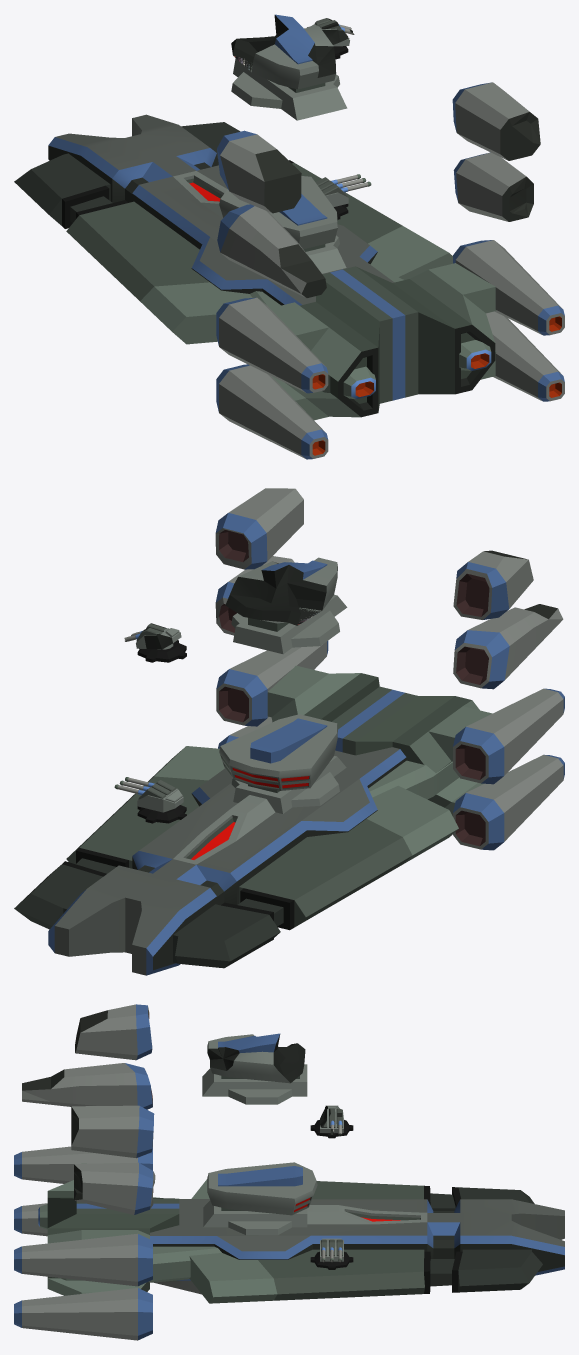
Rendered from Corvettev3.fbx.
3 views of the same model, one above another, from view 1: azimuth 30°, elevation 25°; view 2: azimuth 150°, elevation 25°; view 3: azimuth 270°, elevation 25° (orthographic). The views are drawn at different scales.
Parts seen in each view (by area): view 1: Corvette Core Chassis, Corvette Broadside Chassis, Corvette Core Chassis.003, Corvette Engine.TL, Corvette Engine.BL, Corvette Engine.BL_Broken, Corvette Engine.TR, Corvette Engine.TL_Broken, Corvette Engine.TR_Broken, Corvette Engine.BR_Broken, Corvette Core Chassis.001, Corvette Engine.BR (+2 smaller); view 2: Corvette Core Chassis, Corvette Broadside Chassis, Corvette Core Chassis.001, Corvette Core Chassis.003, Corvette Engine.TL, Corvette Engine.BL, Corvette Engine.BL_Broken, Corvette Engine.TR_Broken, Corvette Engine.TR, Corvette Engine.TL_Broken, Corvette AUX Engines, Turret Body (+4 smaller); view 3: Corvette Core Chassis, Corvette Broadside Chassis, Corvette Core Chassis.001, Corvette Core Chassis.003, Corvette Engine.TR, Corvette Engine.BR, Corvette Engine.BL_Broken, Corvette Engine.TR_Broken, Corvette Engine.BR_Broken, Corvette Engine.TL_Broken, Corvette Engine.TL, Corvette AUX Engines (+3 smaller).
Boxes of the visible parts, bbox=[...] form: Corvette Core Chassis: bbox=[48, 114, 496, 420]; Corvette Broadside Chassis: bbox=[14, 122, 452, 344]; Corvette Core Chassis.003: bbox=[231, 14, 347, 120]; Corvette Engine.TL: bbox=[216, 297, 328, 393]; Corvette Engine.BL: bbox=[216, 364, 328, 459]; Corvette Engine.BL_Broken: bbox=[217, 204, 326, 298]; Corvette Engine.TR: bbox=[453, 240, 564, 335]; Corvette Engine.TL_Broken: bbox=[217, 130, 301, 213]; Corvette Engine.TR_Broken: bbox=[452, 82, 540, 160]; Corvette Engine.BR_Broken: bbox=[453, 152, 533, 221]; Corvette Core Chassis.001: bbox=[219, 176, 346, 273]; Corvette Engine.BR: bbox=[486, 311, 564, 401]; Corvette Core Chassis: bbox=[48, 665, 492, 975]; Corvette Broadside Chassis: bbox=[14, 746, 458, 968]; Corvette Core Chassis.001: bbox=[219, 714, 346, 813]; Corvette Core Chassis.003: bbox=[225, 557, 347, 654]; Corvette Engine.TL: bbox=[453, 688, 564, 784]; Corvette Engine.BL: bbox=[453, 754, 564, 850]; Corvette Engine.BL_Broken: bbox=[453, 604, 563, 689]; Corvette Engine.TR_Broken: bbox=[215, 488, 303, 569]; Corvette Engine.TR: bbox=[216, 641, 328, 726]; Corvette Engine.TL_Broken: bbox=[453, 550, 533, 619]; Corvette AUX Engines: bbox=[368, 760, 459, 799]; Turret Body: bbox=[137, 780, 183, 812]; Corvette Core Chassis: bbox=[47, 1163, 564, 1295]; Corvette Broadside Chassis: bbox=[189, 1179, 542, 1303]; Corvette Core Chassis.001: bbox=[203, 1162, 317, 1235]; Corvette Core Chassis.003: bbox=[202, 1033, 307, 1104]; Corvette Engine.TR: bbox=[14, 1233, 152, 1286]; Corvette Engine.BR: bbox=[14, 1288, 152, 1340]; Corvette Engine.BL_Broken: bbox=[22, 1063, 152, 1109]; Corvette Engine.TR_Broken: bbox=[71, 1105, 154, 1158]; Corvette Engine.BR_Broken: bbox=[74, 1162, 155, 1214]; Corvette Engine.TL_Broken: bbox=[75, 1004, 152, 1060]; Corvette Engine.TL: bbox=[14, 1146, 152, 1183]; Corvette AUX Engines: bbox=[38, 1197, 221, 1282].
Size of the model in its own units: 186 by 379 by 197.
